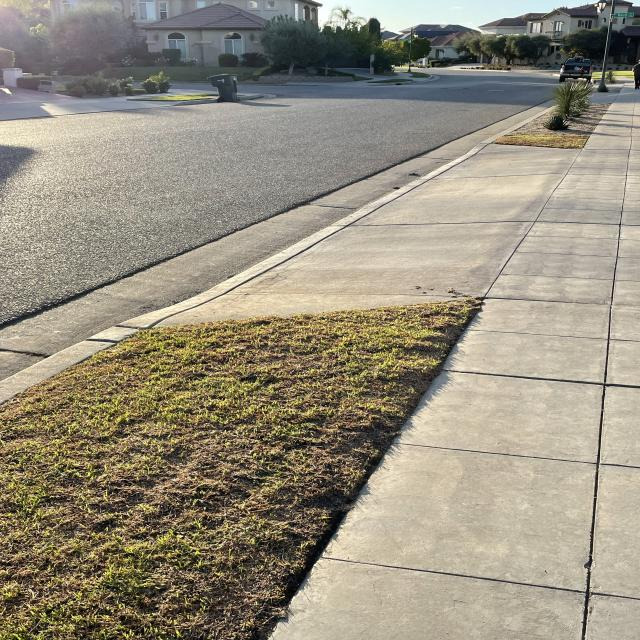curb: (89, 285, 275, 328), (6, 322, 104, 400), (227, 237, 338, 264), (307, 198, 380, 235), (360, 165, 438, 198), (423, 134, 502, 166)
road: (15, 134, 335, 197), (7, 175, 238, 238), (167, 113, 420, 164), (320, 96, 500, 122), (438, 76, 545, 104)
walkway: (421, 426, 638, 550), (328, 551, 635, 636), (506, 286, 638, 444), (550, 196, 636, 312), (592, 141, 640, 244)
walkway-edge: (303, 285, 499, 518)
